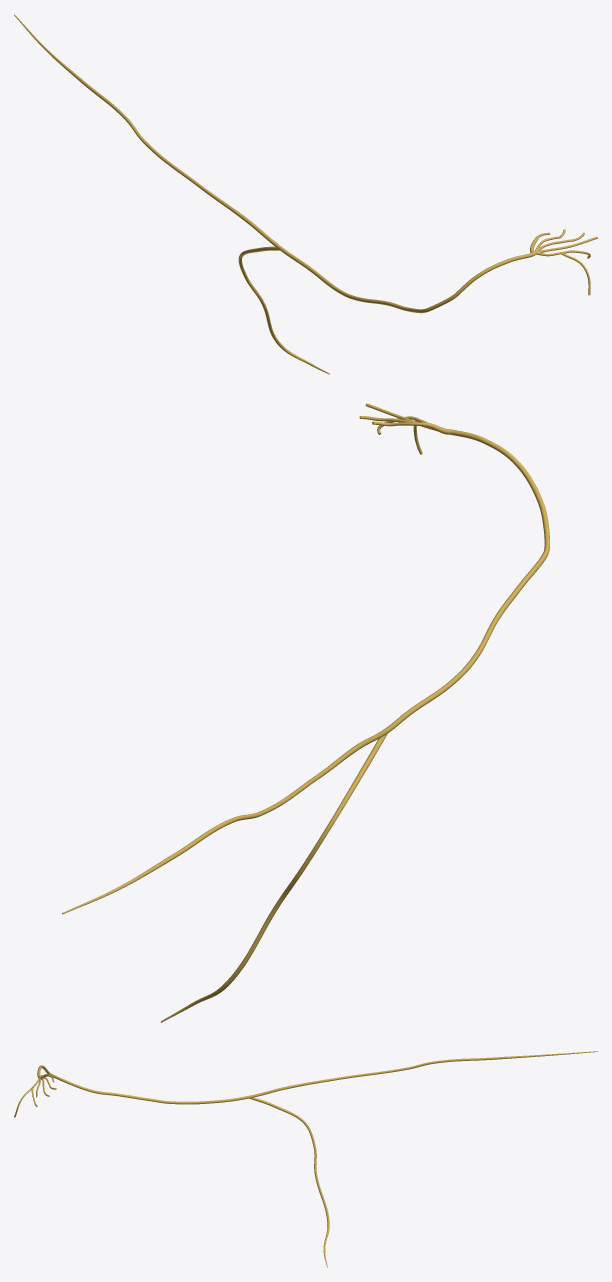
3 renders of one model, top to bottom at view 1: azimuth 30°, elevation 25°; view 2: azimuth 150°, elevation 25°; view 3: azimuth 270°, elevation 25°, orthographic. The views are drawn at different scales.
Visible parts, largest first — view 1: 右侧舌咽神经; view 2: 右侧舌咽神经; view 3: 右侧舌咽神经.
Boxes of the visible parts, <box> form: 右侧舌咽神经: <box>14,14,597,374</box>; 右侧舌咽神经: <box>62,403,549,1022</box>; 右侧舌咽神经: <box>14,1051,597,1267</box>.
Bounding box in the file's own units: 0.0574 × 0.0808 × 0.2174.
